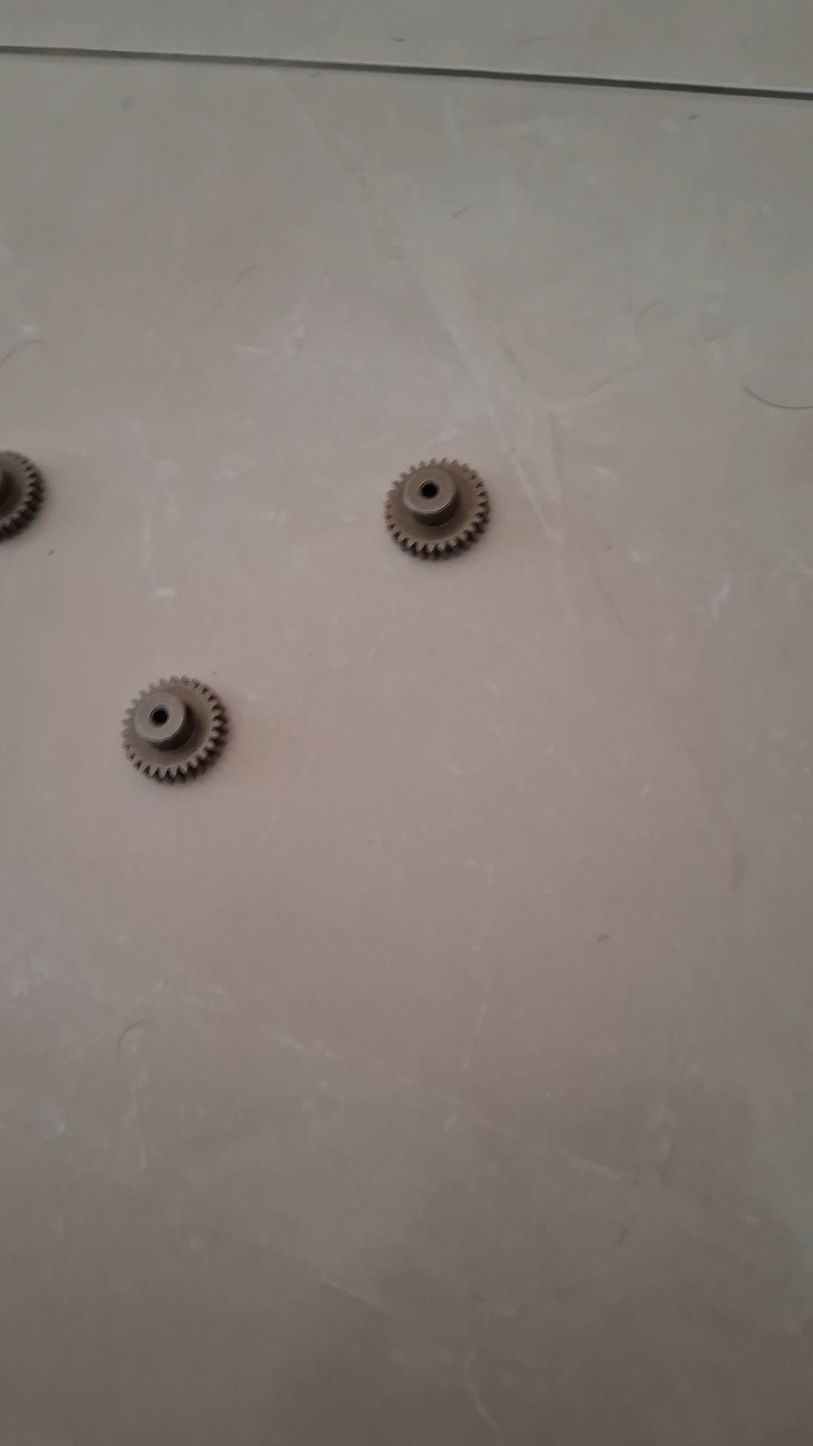spur gear: (123, 676, 227, 782), (385, 459, 489, 556), (0, 452, 44, 540)
